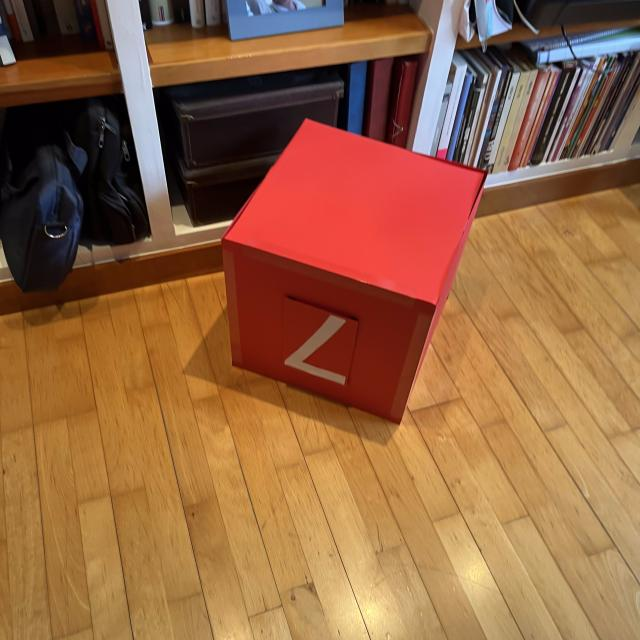box: (217, 114, 490, 426)
